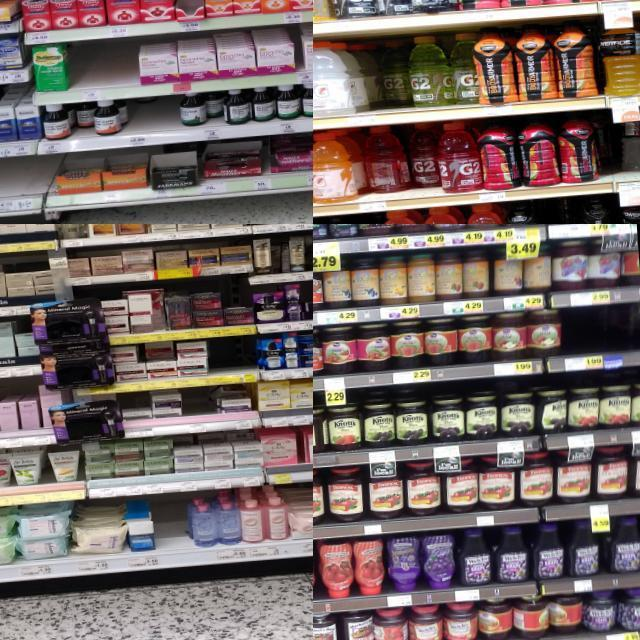empty: (68, 37, 140, 101), (564, 308, 620, 369), (154, 498, 190, 564), (0, 156, 40, 212), (210, 336, 256, 384), (135, 102, 178, 144), (182, 388, 210, 432)
